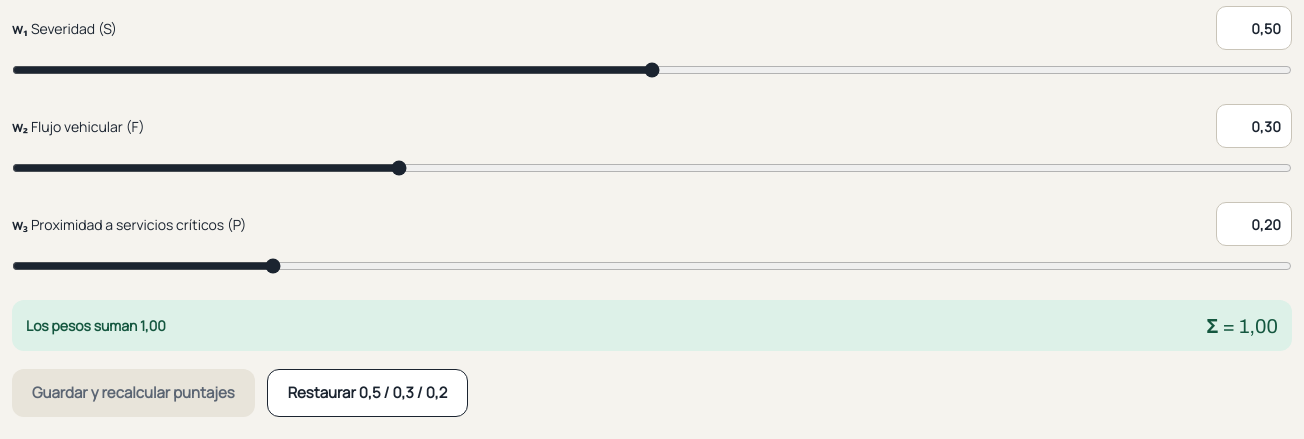
Test case: formulario de pesos › «Restaurar» vuelve a los valores iniciales del modelo
The width and height of the screenshot is (1304, 439).
Replace the text in the field labelled "w₁ Severidad (S)" with "0,6" at (1254, 28), box [1216,6,1292,50]
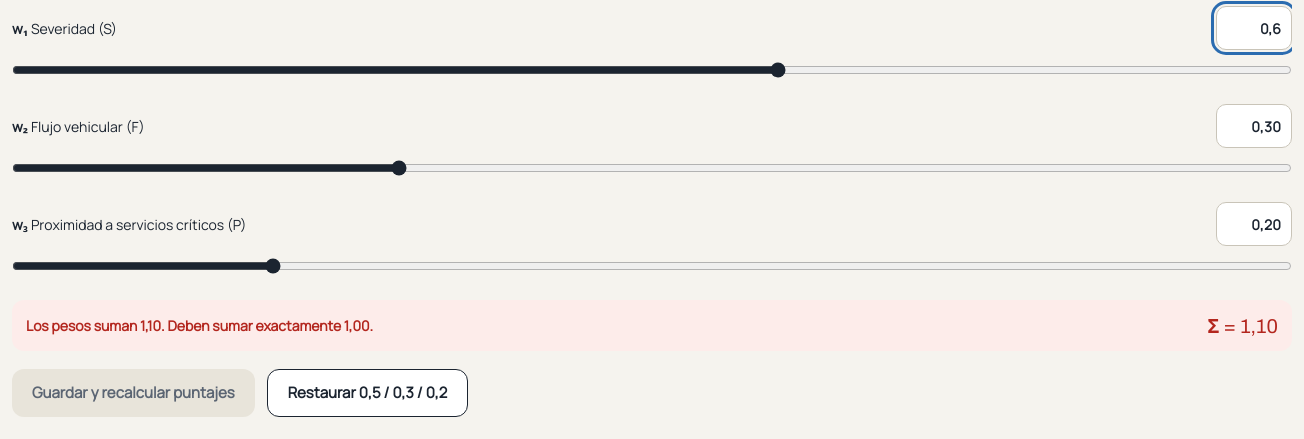
Replace the text in the field labelled "w₂ Flujo vehicular (F)" with "0,3" at (1254, 126), box [1216,104,1292,148]
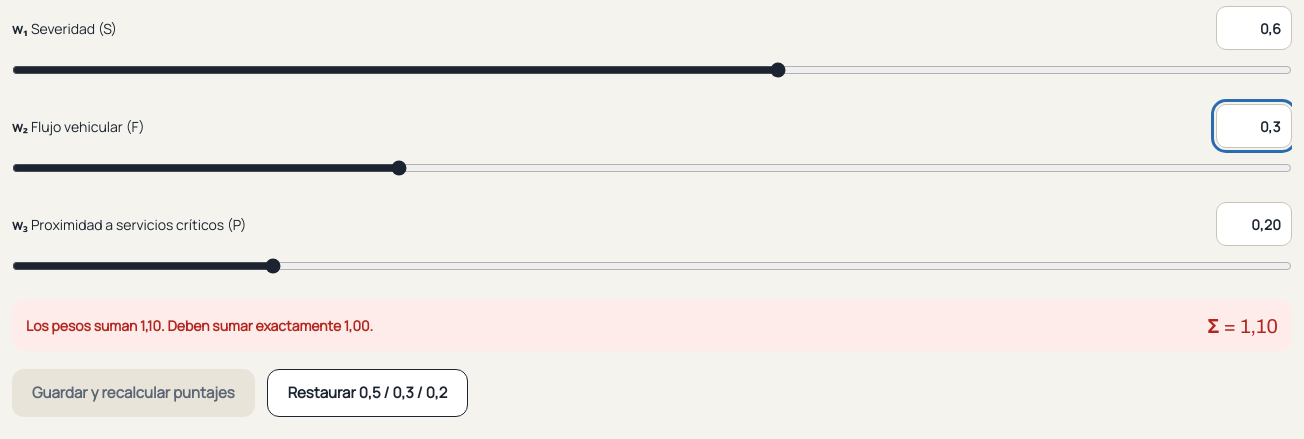
Replace the text in the field labelled "w₃ Proximidad a servicios críticos (P)" with "0,1" at (1254, 224), box [1216,202,1292,246]
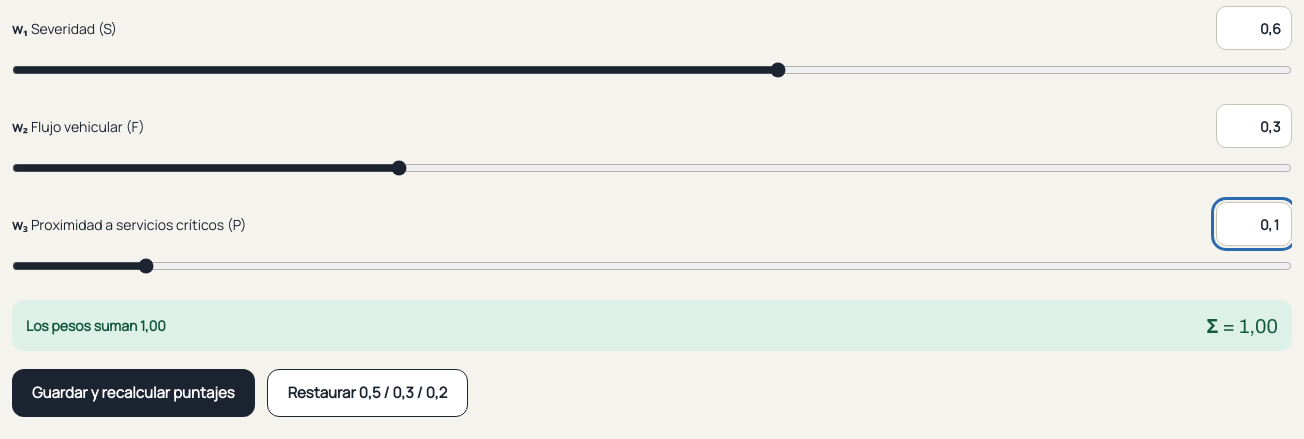
Click the button "Restaurar 0,5 / 0,3 / 0,2" at (367, 393), box [267,369,468,417]
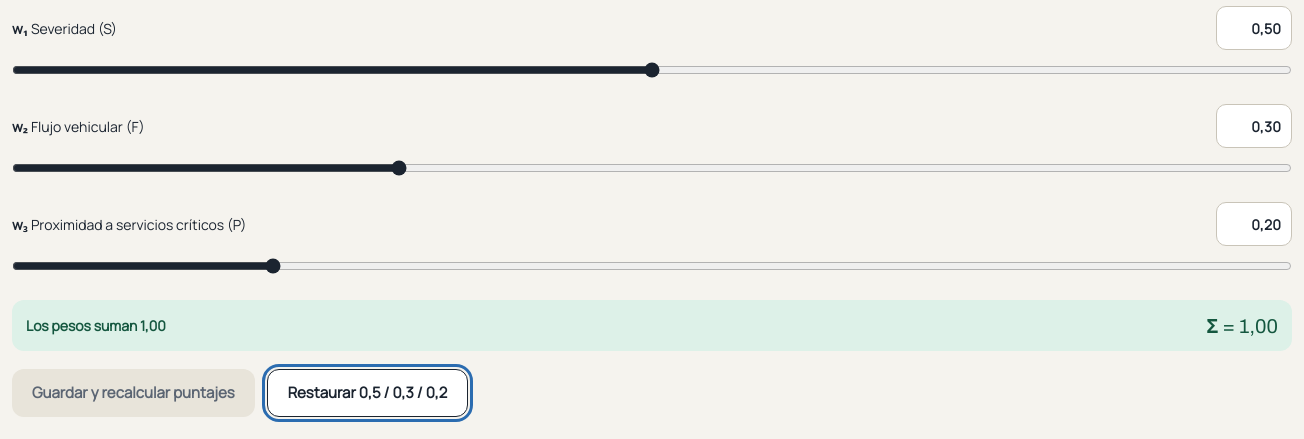
Expected: the field labelled "w₁ Severidad (S)" holds "0,50", [1216,6,1292,50]
Expected: the field labelled "w₃ Proximidad a servicios críticos (P)" holds "0,20", [1216,202,1292,246]
